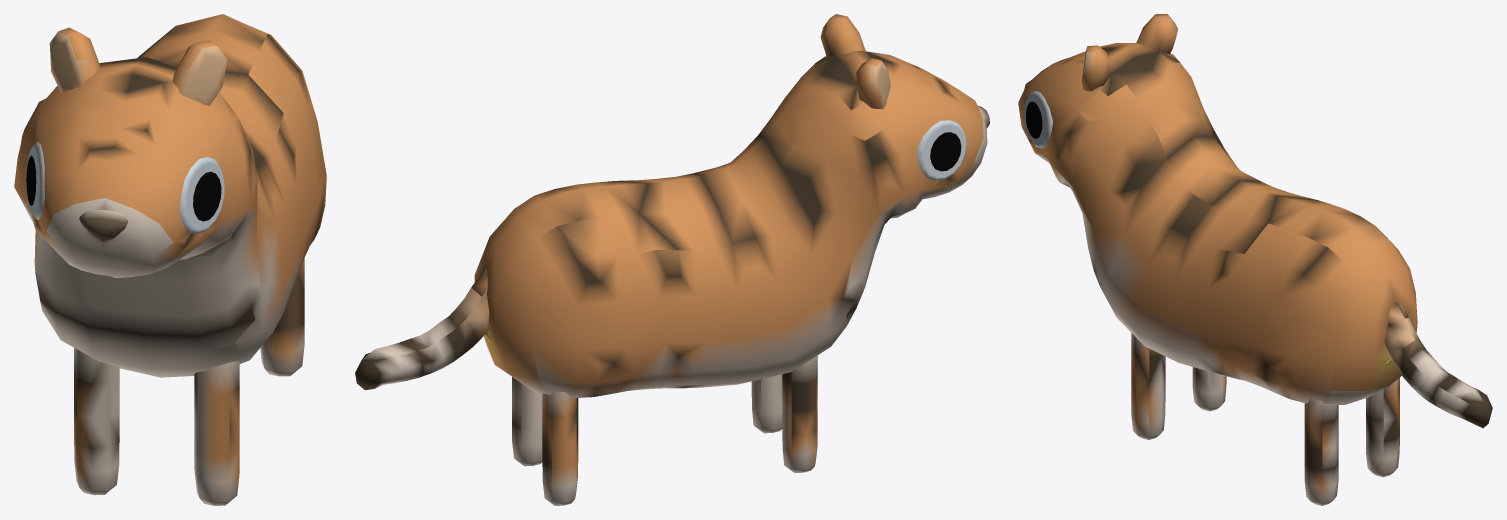
Rendered from Tiger.glb.
3 renders of one model, left to right at view 1: azimuth 30°, elevation 25°; view 2: azimuth 150°, elevation 25°; view 3: azimuth 270°, elevation 25°, orthographic. The views are drawn at different scales.
Parts seen in each view (by area): view 1: 165; view 2: 165; view 3: 165.
Boxes of the visible parts, <box> form: 165: <box>14,14,326,505</box>; 165: <box>355,14,989,505</box>; 165: <box>1018,14,1492,505</box>.
Size of the model in its own units: 0.985 by 0.9261 by 1.08.
